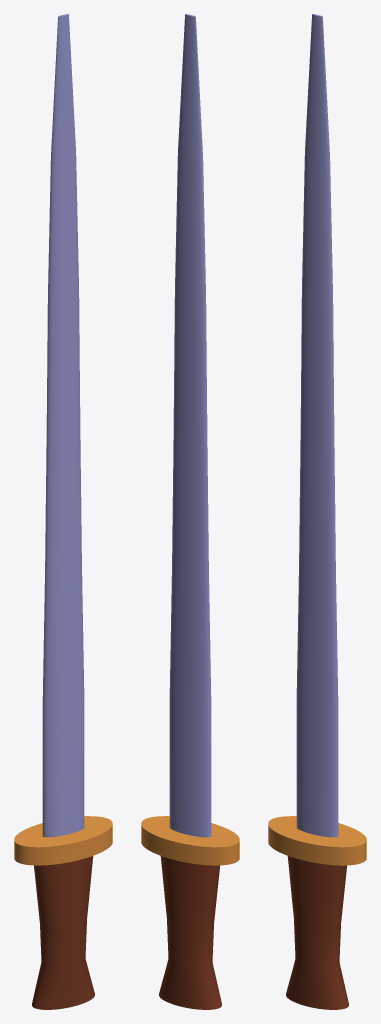
The picture shows the model from 3 angles, left to right: view 1: azimuth 30°, elevation 25°; view 2: azimuth 150°, elevation 25°; view 3: azimuth 330°, elevation 25°; orthographic projection.
Parts seen in each view (by area): view 1: Cylinder.002; view 2: Cylinder.002; view 3: Cylinder.002.
Boxes of the visible parts, box(x1,y1,x2,y2) form: Cylinder.002: box(14, 14, 112, 1009); Cylinder.002: box(141, 14, 239, 1009); Cylinder.002: box(268, 14, 366, 1009).
Size of the model in its own units: 6.91 by 68.57 by 3.61.
